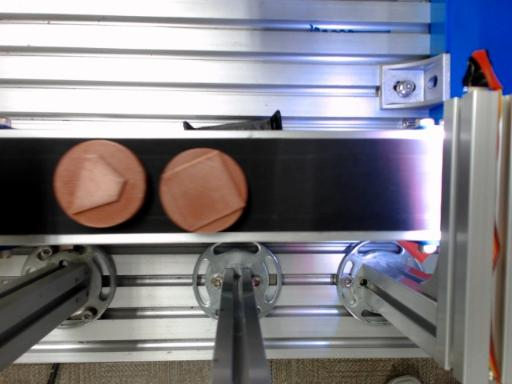Brown_Waper: (54, 140, 146, 227), (160, 148, 247, 232)
